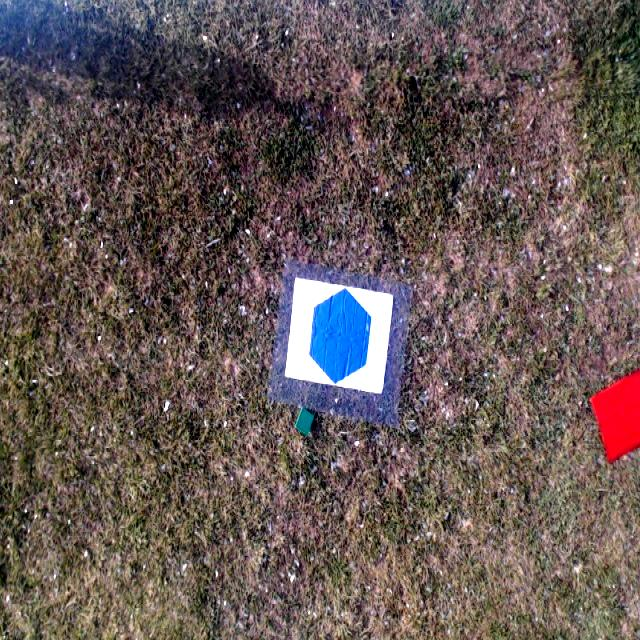blue_hexagon: (308, 287, 372, 385)
